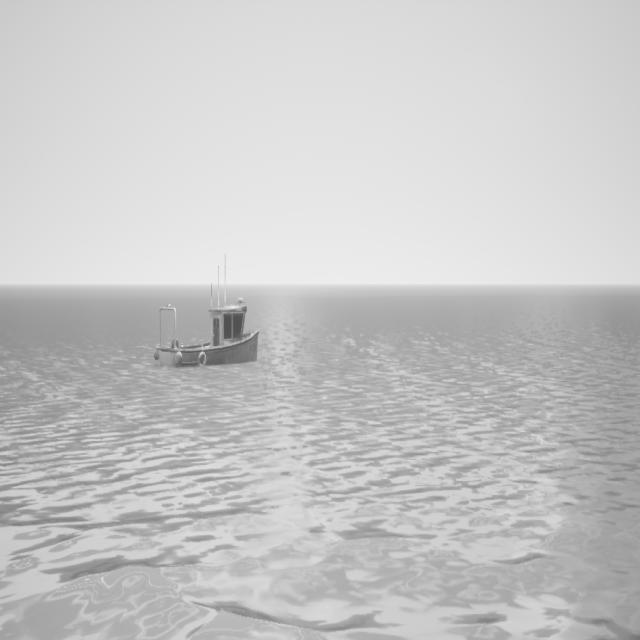ship: (154, 261, 260, 371)
